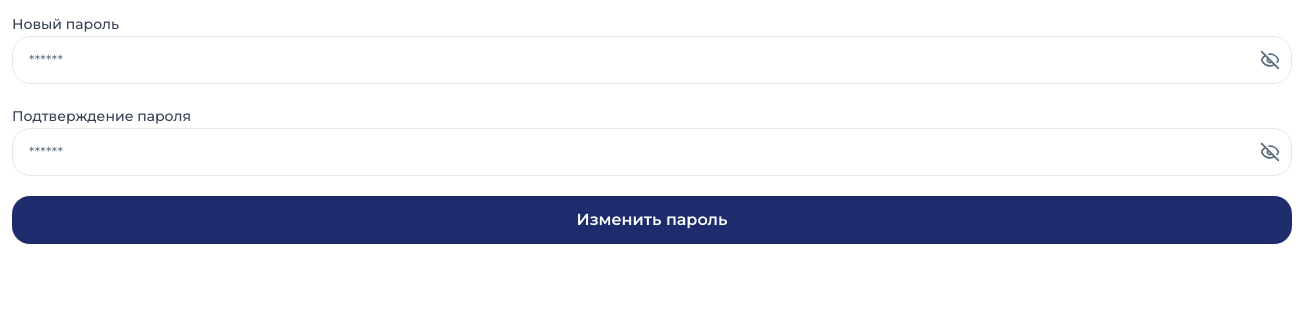
Test: ChangeManagerPasswordForm › требует оба поля
This screenshot has width=1304, height=309.
Click the button "Изменить пароль" at [652, 220], box [12,196,1292,244]
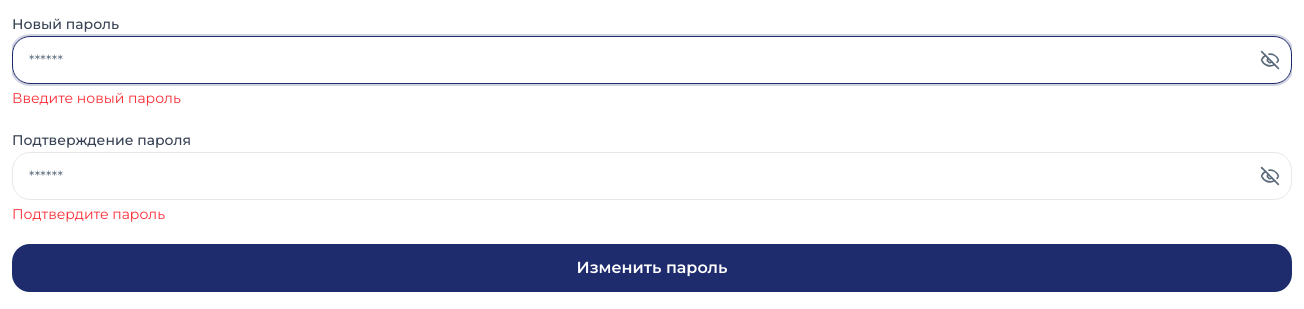
Expected: the text "Введите новый пароль" is shown, [12,89,181,107]
Expected: the text "Подтвердите пароль" is shown, [12,205,165,223]
